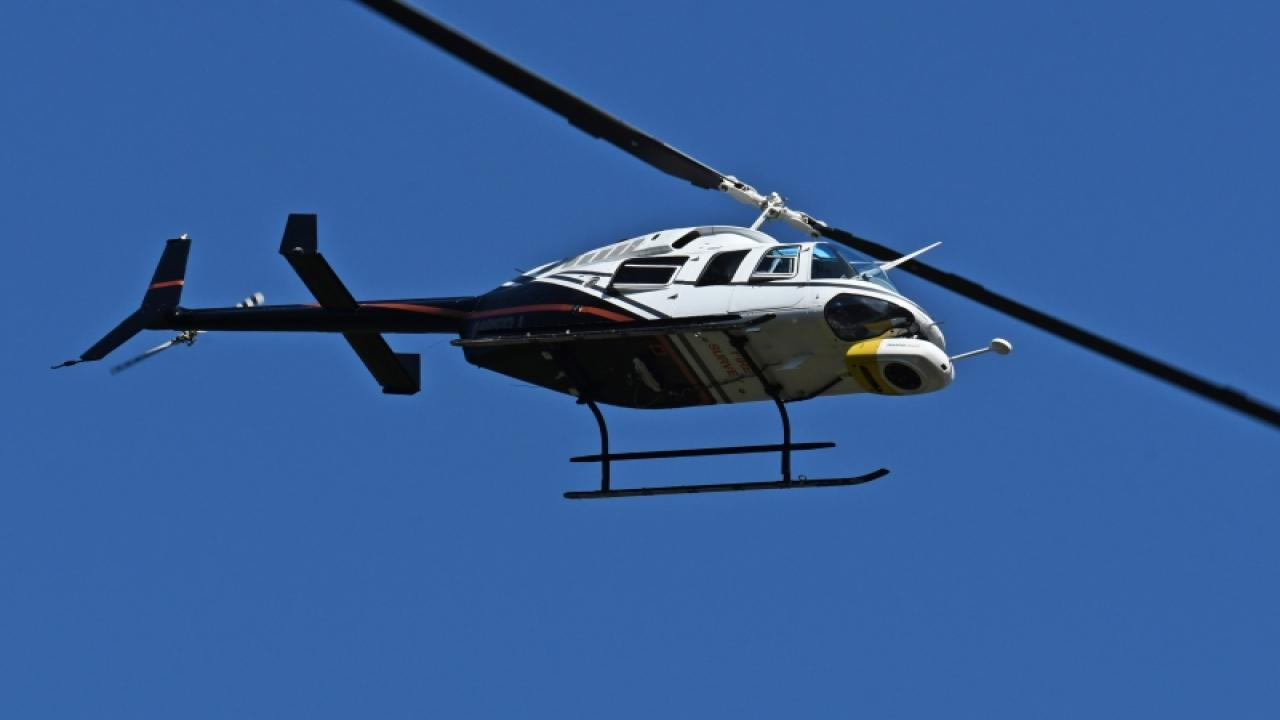Helicopter: (40, 0, 1280, 508)
